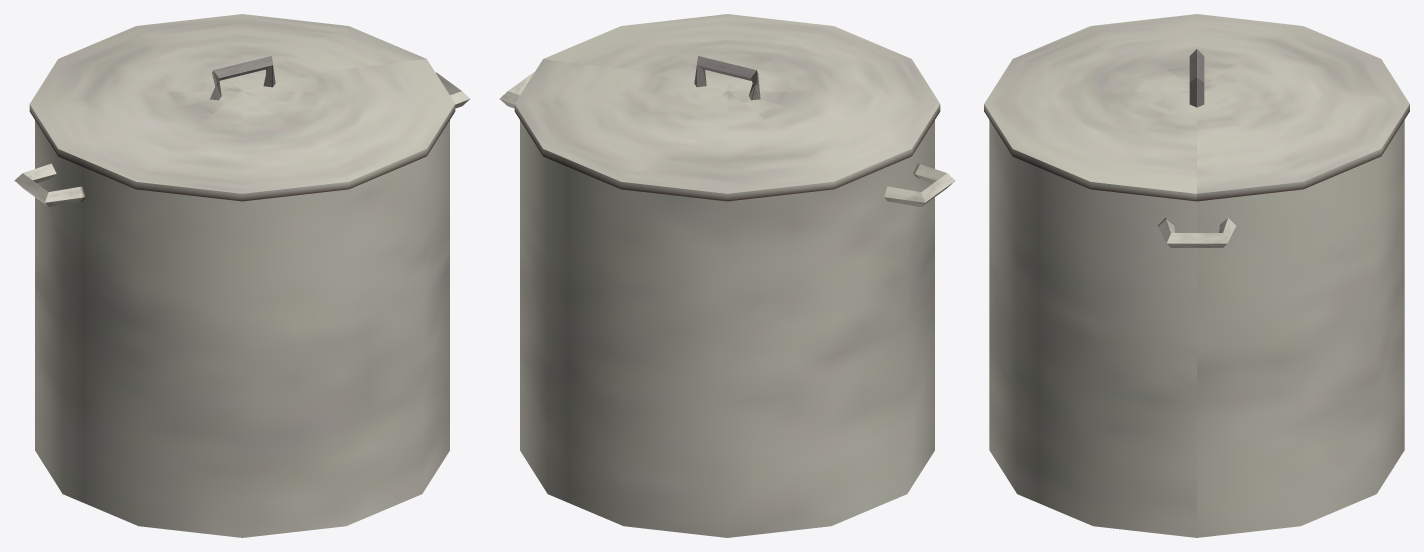
The model's file is stockpot.fbx.
3 views of the same model, side by side, from view 1: azimuth 30°, elevation 25°; view 2: azimuth 150°, elevation 25°; view 3: azimuth 270°, elevation 25° (orthographic).
Parts seen in each view (by area): view 1: stockpot, stockpot_lid; view 2: stockpot, stockpot_lid; view 3: stockpot, stockpot_lid.
Part boxes in pixels (box(x1,y1,x2,y2)): stockpot: box(14, 72, 470, 537); stockpot_lid: box(29, 14, 455, 201); stockpot: box(499, 72, 955, 537); stockpot_lid: box(514, 14, 940, 201); stockpot: box(989, 120, 1404, 537); stockpot_lid: box(984, 14, 1409, 201).
Size of the model in its own units: 0.4735 by 0.4115 by 0.41.
